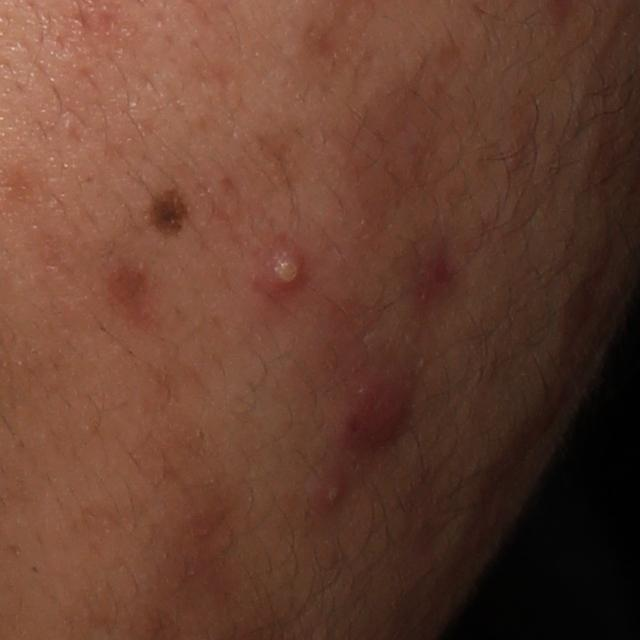nevus: (137, 181, 189, 244)
papule: (338, 372, 420, 456)
pustule: (261, 249, 307, 295)
